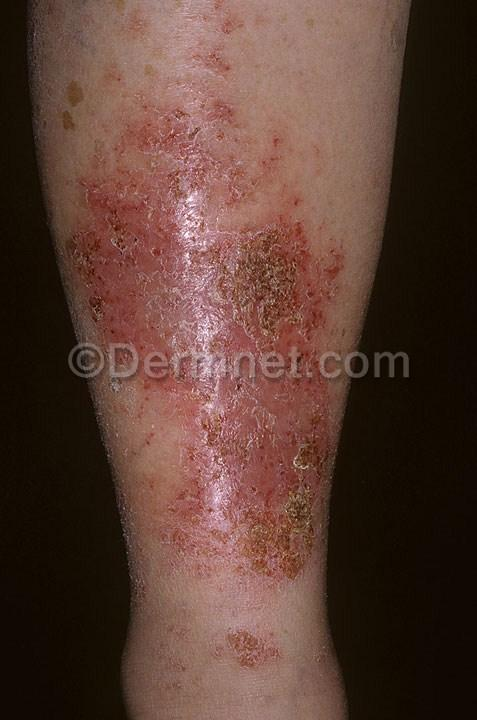Eczema: (48, 73, 386, 340), (111, 385, 364, 591), (210, 616, 300, 684)
